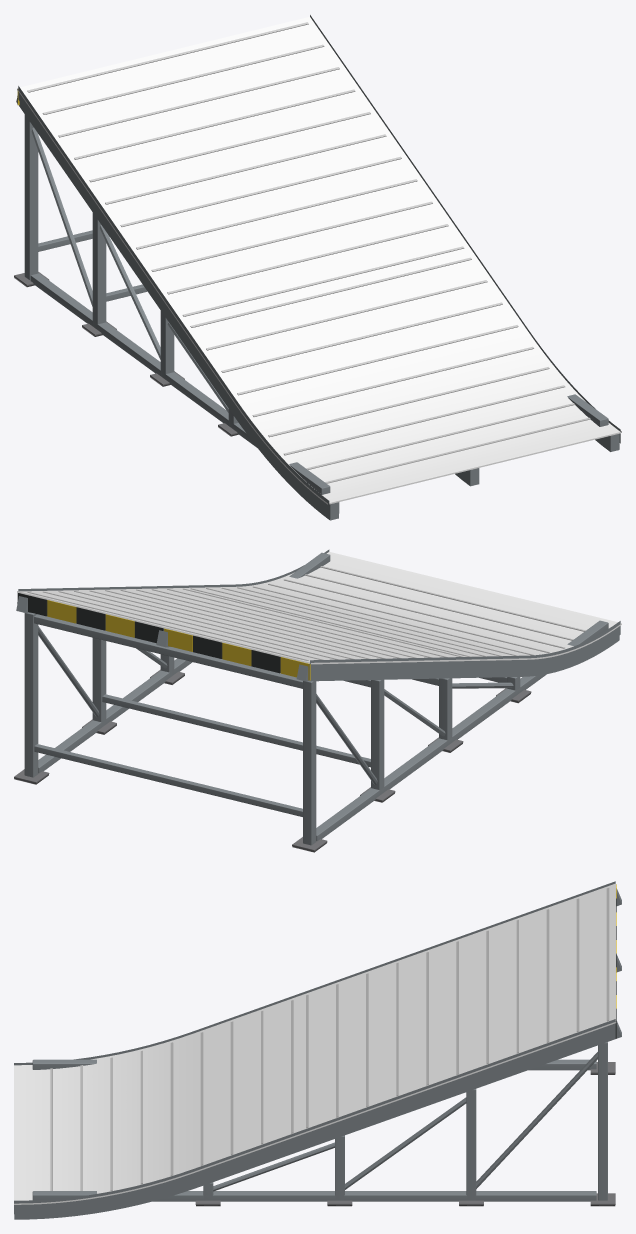
File: sport.stunt.ramp_large.glb
The picture shows the model from 3 angles, top to bottom: view 1: azimuth 30°, elevation 25°; view 2: azimuth 150°, elevation 25°; view 3: azimuth 270°, elevation 25°; orthographic projection. The views are drawn at different scales.
Visible parts, largest first — view 1: main__steel_fff, main__paint_889, main__galv_ccc; view 2: main__paint_889, main__steel_fff, main__galv_ccc, main__paint_ec3, main__paint_333, main__steel_777; view 3: main__steel_fff, main__paint_889, main__galv_ccc, main__steel_777.
Part boxes in pixels (left/top/right/bottom): main__steel_fff: left=17, top=17, right=621, bottom=504; main__paint_889: left=16, top=15, right=620, bottom=520; main__galv_ccc: left=27, top=22, right=590, bottom=483; main__paint_889: left=16, top=549, right=620, bottom=845; main__steel_fff: left=17, top=551, right=621, bottom=664; main__galv_ccc: left=27, top=566, right=585, bottom=660; main__paint_ec3: left=47, top=600, right=310, bottom=680; main__paint_333: left=17, top=593, right=280, bottom=673; main__steel_777: left=14, top=669, right=531, bottom=852; main__steel_fff: left=14, top=883, right=615, bottom=1204; main__paint_889: left=14, top=881, right=621, bottom=1219; main__galv_ccc: left=50, top=888, right=609, bottom=1190; main__steel_777: left=195, top=1062, right=615, bottom=1206.
Bounding box in the file's own units: 2.68 × 1.77 × 4.85.
